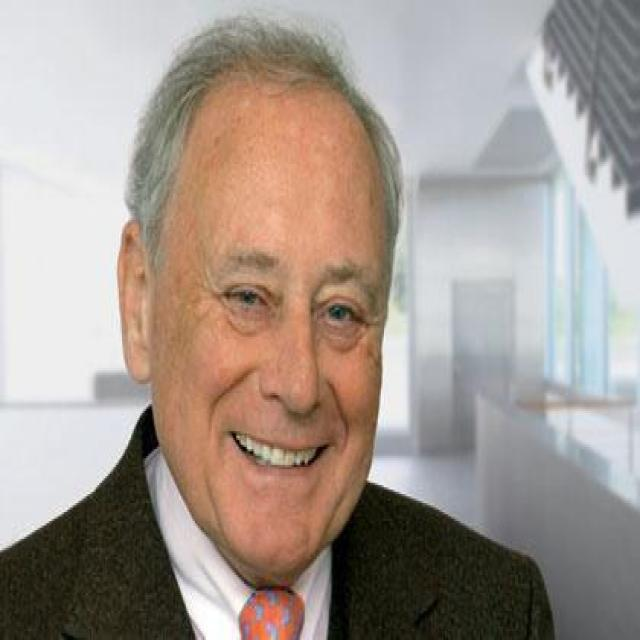0_rostro_limpio: (128, 42, 394, 580)
